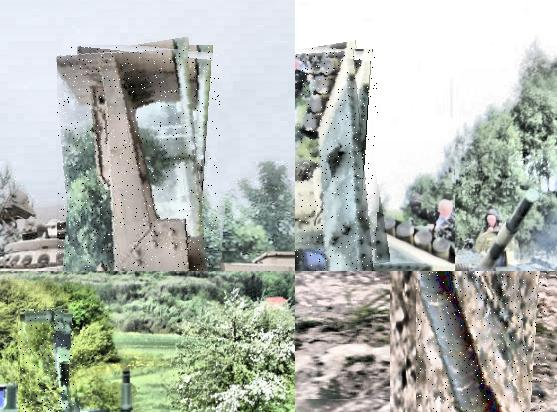tanks: (58, 48, 213, 272), (296, 49, 379, 272), (418, 272, 504, 412), (476, 192, 557, 272), (21, 310, 76, 412)
